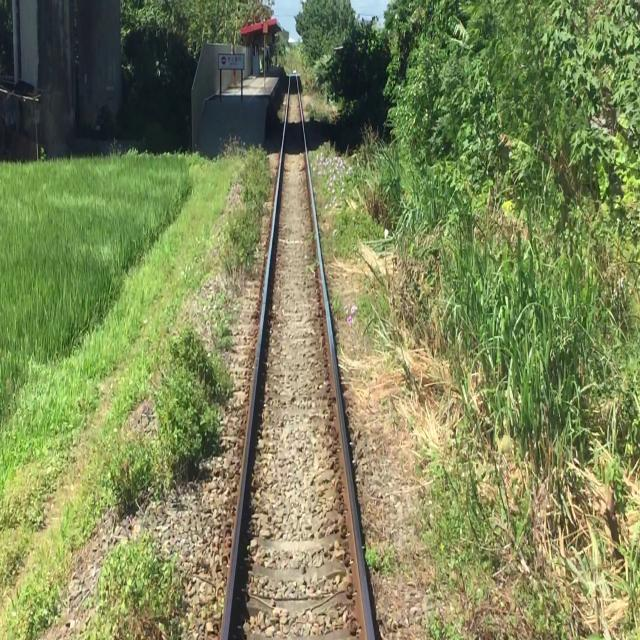track: (209, 51, 385, 640)
